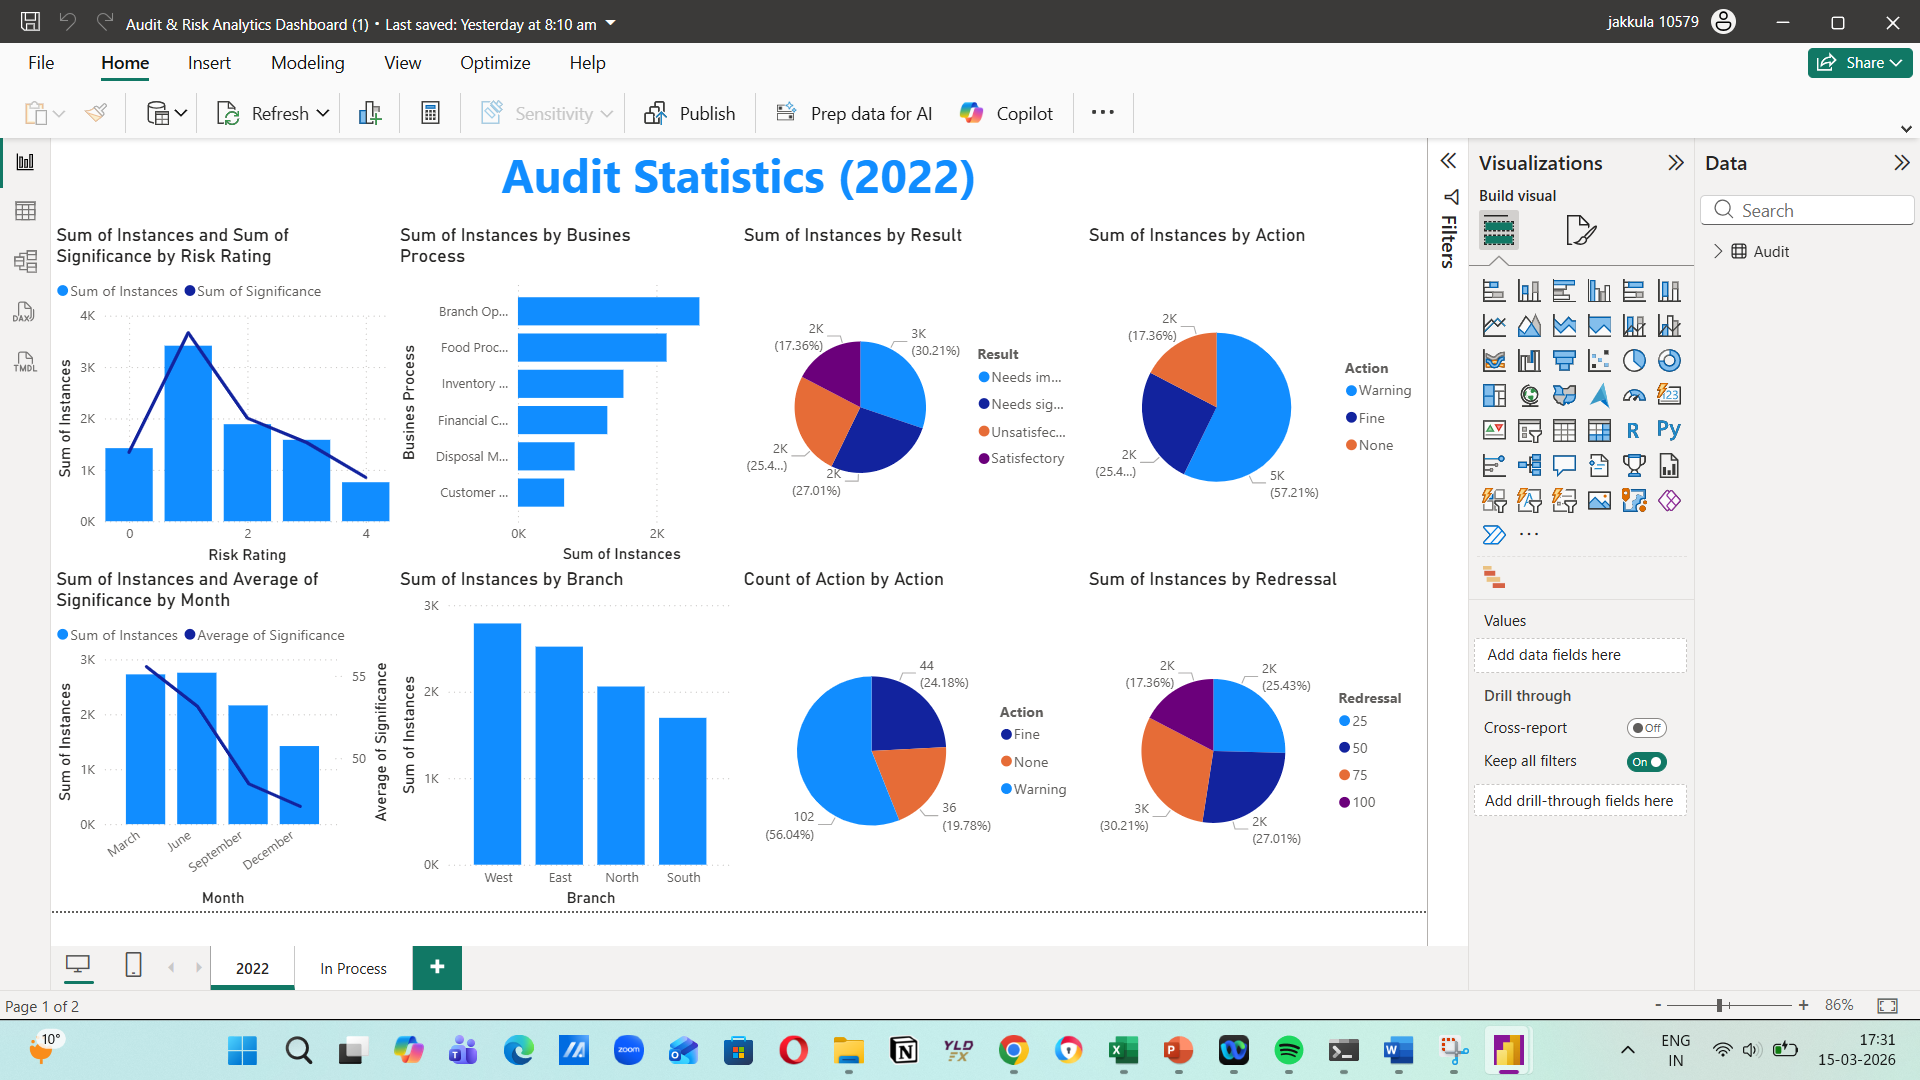

The dashboard page shown, as its layout file describes it:
{"tool":"powerbi","page":{"name":"2022","canvas":[1280,720],"ordinal":0},"visuals":[{"type":"pieChart","fields":{"Category":["Audit.Action"],"Y":["CountNonNull(Audit.Action)"]},"box":[640,400,320,320],"z":0},{"type":"lineStackedColumnComboChart","fields":{"Category":["Audit.Audit Period.Variation.Date Hierarchy.Month"],"Y":["Sum(Audit.Instances)"],"Y2":["Avg(Audit.Significance)"]},"box":[0,400,320,320],"z":1000},{"type":"columnChart","fields":{"Category":["Audit.Branch"],"Y":["Sum(Audit.Instances)"]},"box":[320,400,320,320],"z":2000},{"type":"barChart","fields":{"Category":["Audit.Busines Process"],"Y":["Sum(Audit.Instances)"]},"box":[320,80,320,320],"z":3000},{"type":"lineStackedColumnComboChart","fields":{"Category":["Audit.Risk Rating"],"Y":["Sum(Audit.Instances)"],"Y2":["Sum(Audit.Significance)"]},"box":[0,80,320,320],"z":4000},{"type":"pieChart","fields":{"Y":["Sum(Audit.Instances)"],"Category":["Audit.Redressal"]},"box":[960,400,320,320],"z":5000},{"type":"pieChart","fields":{"Category":["Audit.Result"],"Y":["Sum(Audit.Instances)"]},"box":[640,80,320,320],"z":6000},{"type":"pieChart","fields":{"Category":["Audit.Action"],"Y":["Sum(Audit.Instances)"]},"box":[960,80,320,320],"z":7000},{"type":"textbox","box":[0,0,1280,80],"z":8000}]}

Visuals, with their boxes on the page's 1280x720 design canvas (x1, y1, x2, y2). These are canvas units, not pixel positions in the 1920x1080 screenshot, which may show the page scaled, cropped or inside an application window:
pieChart - Audit.Action x CountNonNull(Audit.Action): BBox(640, 400, 960, 720)
lineStackedColumnComboChart - Audit.Audit Period.Variation.Date Hierarchy.Month x Sum(Audit.Instances): BBox(0, 400, 320, 720)
columnChart - Audit.Branch x Sum(Audit.Instances): BBox(320, 400, 640, 720)
barChart - Audit.Busines Process x Sum(Audit.Instances): BBox(320, 80, 640, 400)
lineStackedColumnComboChart - Audit.Risk Rating x Sum(Audit.Instances): BBox(0, 80, 320, 400)
pieChart - Sum(Audit.Instances) x Audit.Redressal: BBox(960, 400, 1280, 720)
pieChart - Audit.Result x Sum(Audit.Instances): BBox(640, 80, 960, 400)
pieChart - Audit.Action x Sum(Audit.Instances): BBox(960, 80, 1280, 400)
textbox: BBox(0, 0, 1280, 80)
